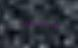eight: (22, 18, 26, 26), (32, 19, 36, 27)
nine: (27, 18, 31, 27)
seven: (37, 19, 41, 28)
six: (52, 21, 56, 29)
three: (47, 20, 51, 29)
two: (17, 18, 21, 26), (42, 20, 46, 28)
